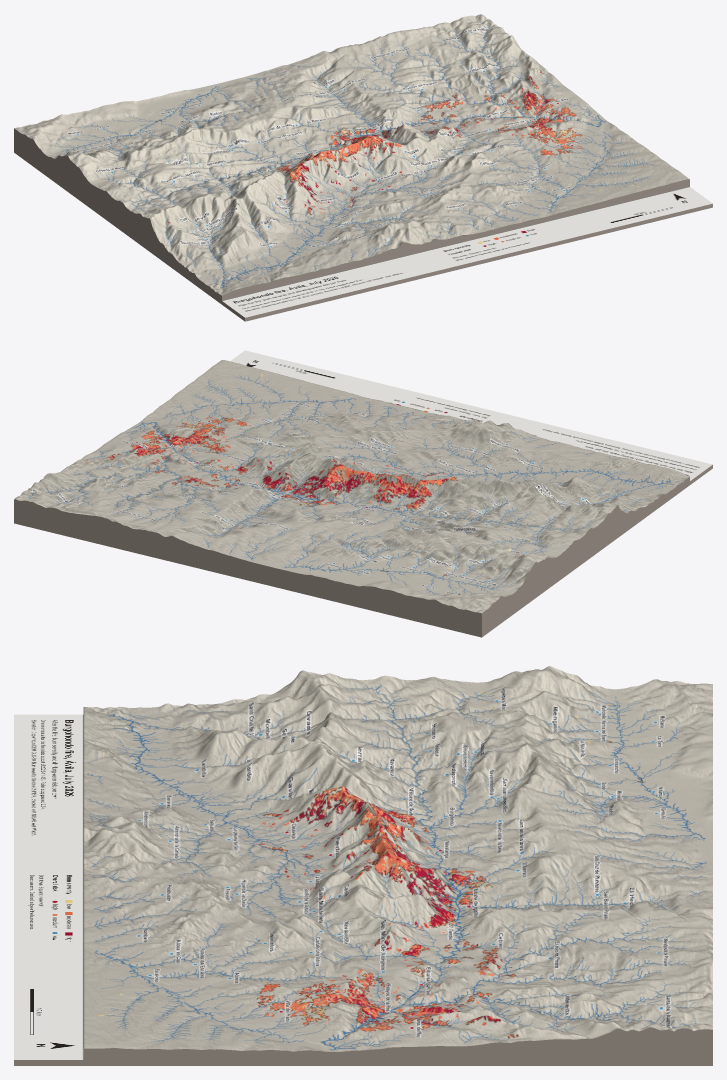
Rendered from burgohondo.glb.
3 views of the same model, one above another, from view 1: azimuth 30°, elevation 25°; view 2: azimuth 150°, elevation 25°; view 3: azimuth 270°, elevation 25° (orthographic). The views are drawn at different scales.
Parts seen in each view (by area): view 1: Burgohondo fire area; view 2: Burgohondo fire area; view 3: Burgohondo fire area.
Part boxes in pixels (x1=…): Burgohondo fire area: x1=14, y1=14, x2=712, y2=321; Burgohondo fire area: x1=14, y1=350, x2=712, y2=637; Burgohondo fire area: x1=14, y1=666, x2=712, y2=1065.
Size of the model in its own units: 0.5 by 0.0392 by 0.4278.
2 materials, 1 textured.
